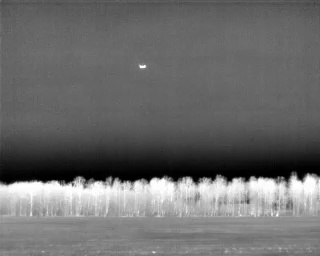DRONE: (135, 60, 151, 73)
